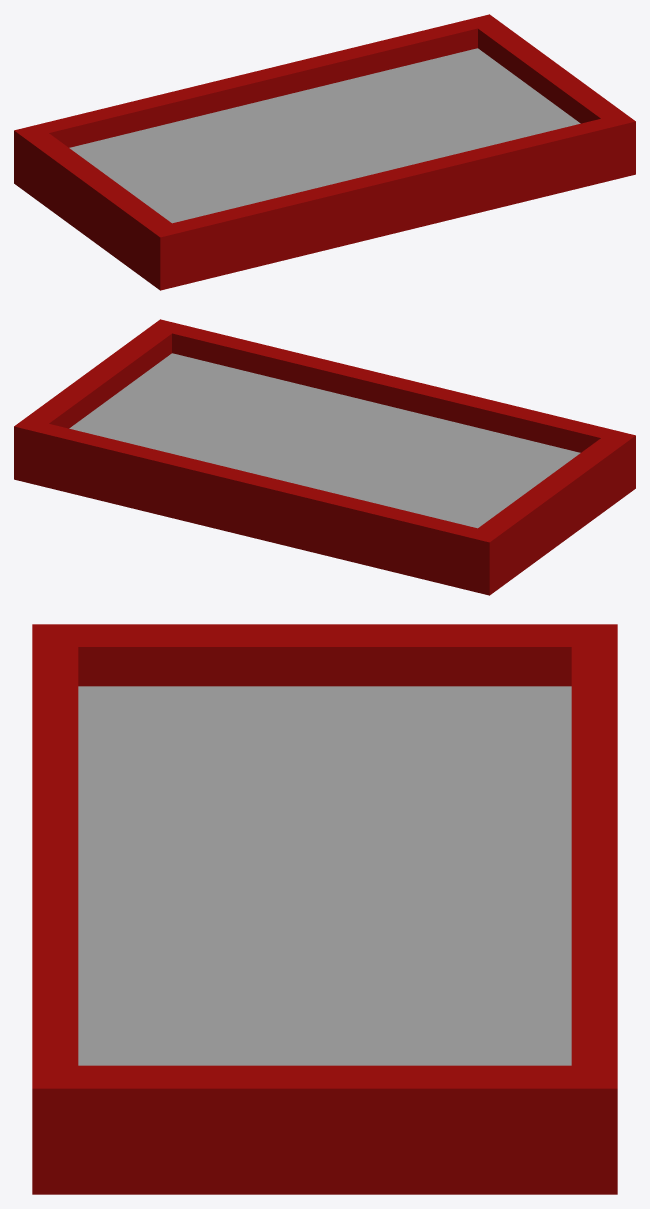
Rendered from final_table.obj.
The picture shows the model from 3 angles, top to bottom: view 1: azimuth 30°, elevation 25°; view 2: azimuth 150°, elevation 25°; view 3: azimuth 270°, elevation 25°; orthographic projection. The views are drawn at different scales.
Visible parts, largest first — view 1: Cube; view 2: Cube; view 3: Cube.
Boxes of the visible parts, x1,y1,x2,y2 form: Cube: [14, 14, 635, 290]; Cube: [14, 319, 635, 595]; Cube: [32, 624, 617, 1194].
Bounding box in the file's own units: 4.72 × 0.5034 × 2.51.
